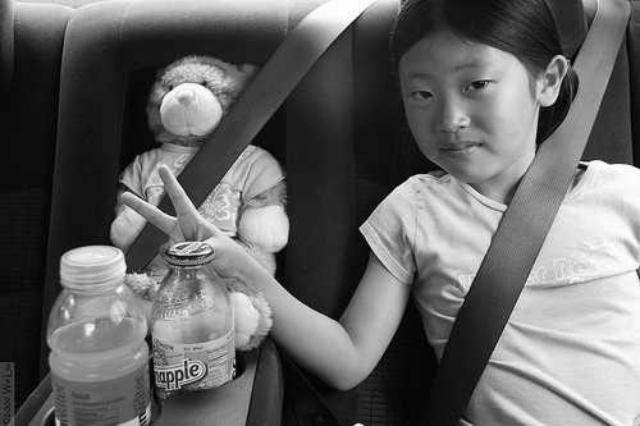SafeDriving: (454, 68, 502, 102), (401, 76, 444, 107)
Seatbelt: (435, 0, 637, 418), (121, 1, 379, 276)
